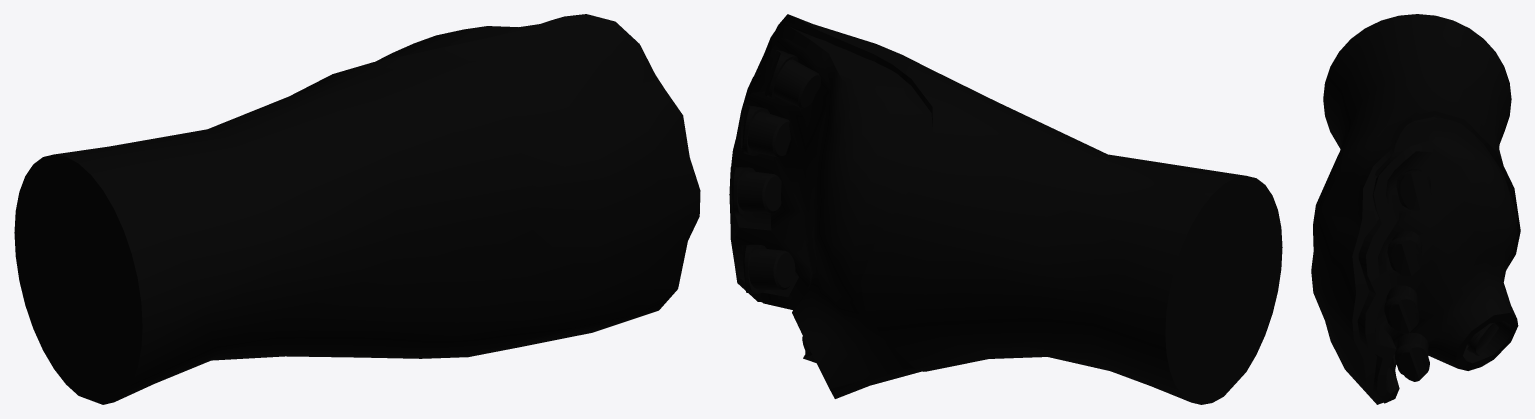
Rendered from LWristYaw.obj.
The picture shows the model from 3 angles, left to right: view 1: azimuth 30°, elevation 25°; view 2: azimuth 150°, elevation 25°; view 3: azimuth 270°, elevation 25°; orthographic projection. The views are drawn at different scales.
Bounding box in the file's own units: 1.57 × 0.8821 × 0.6704.
